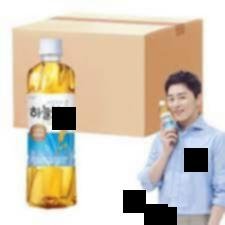haneulbori: (21, 38, 83, 213)
